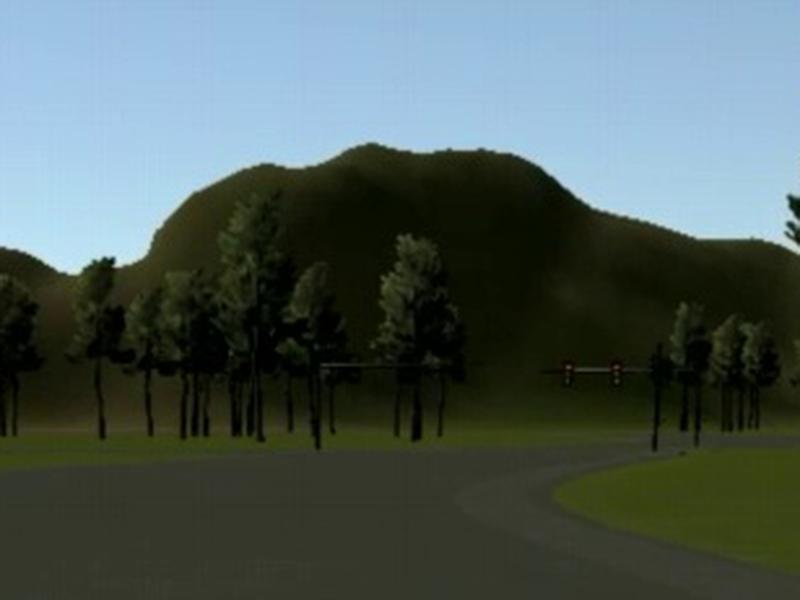Red: (561, 359, 574, 387), (611, 359, 622, 387)
